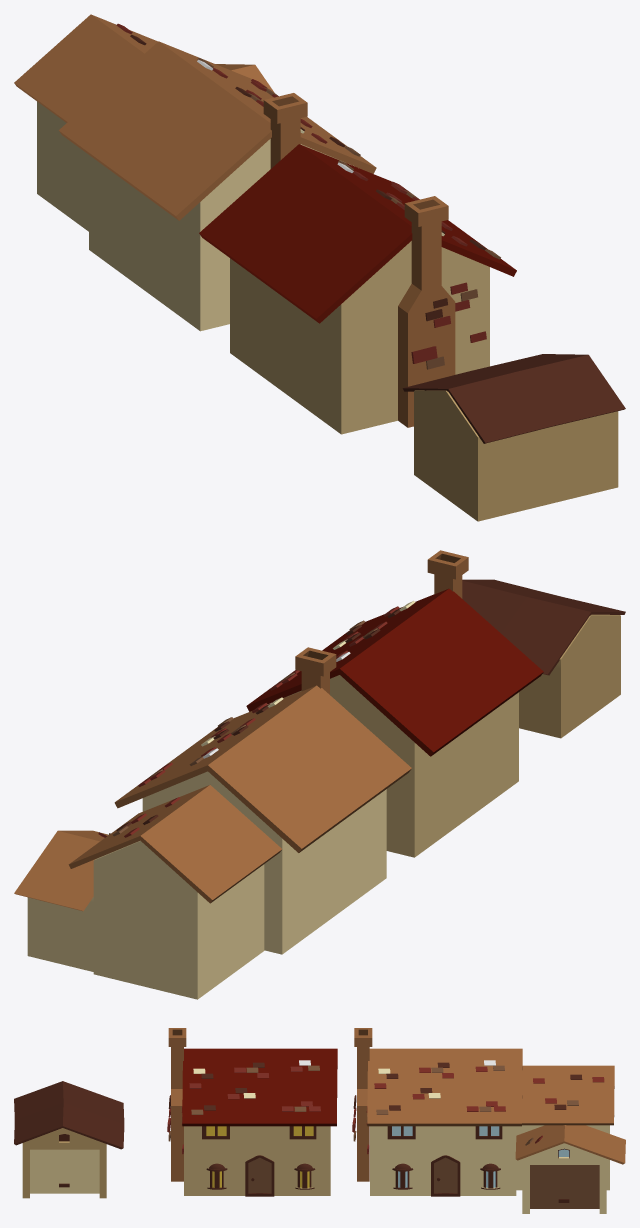
File: Kucice.fbx
3 views of the same model, one above another, from view 1: azimuth 30°, elevation 25°; view 2: azimuth 150°, elevation 25°; view 3: azimuth 270°, elevation 25° (orthographic). The views are drawn at different scales.
Parts seen in each view (by area): view 1: Cube.070, Cube.010, Cube.004, Cube.001, Cube, Cube.002; view 2: Cube, Cube.001, Cube.004, Cube.070, Cube.010, Cube.002, Cube.003; view 3: Cube, Cube.070, Cube.001, Cube.004, Cube.010, Cube.002, Cube.003.
Part boxes in pixels (x1,y1,x2,y2): Cube.070: (230,196,489,434); Cube.010: (402,354,625,521); Cube.004: (199,144,516,323); Cube.001: (59,41,376,220); Cube: (37,93,346,331); Cube.002: (14,14,157,122); Cube: (27,647,386,999); Cube.001: (114,685,411,852); Cube.004: (246,588,543,756); Cube.070: (283,550,518,857); Cube.010: (462,579,625,738); Cube.002: (68,785,282,903); Cube.003: (14,830,108,911); Cube: (354,1028,609,1213); Cube.070: (168,1028,330,1196); Cube.001: (367,1048,522,1126); Cube.004: (182,1048,337,1126); Cube.010: (14,1081,124,1198); Cube.002: (522,1065,614,1125); Cube.003: (515,1125,625,1164).
Bounding box in the file's own units: 438 × 393 × 1541.
